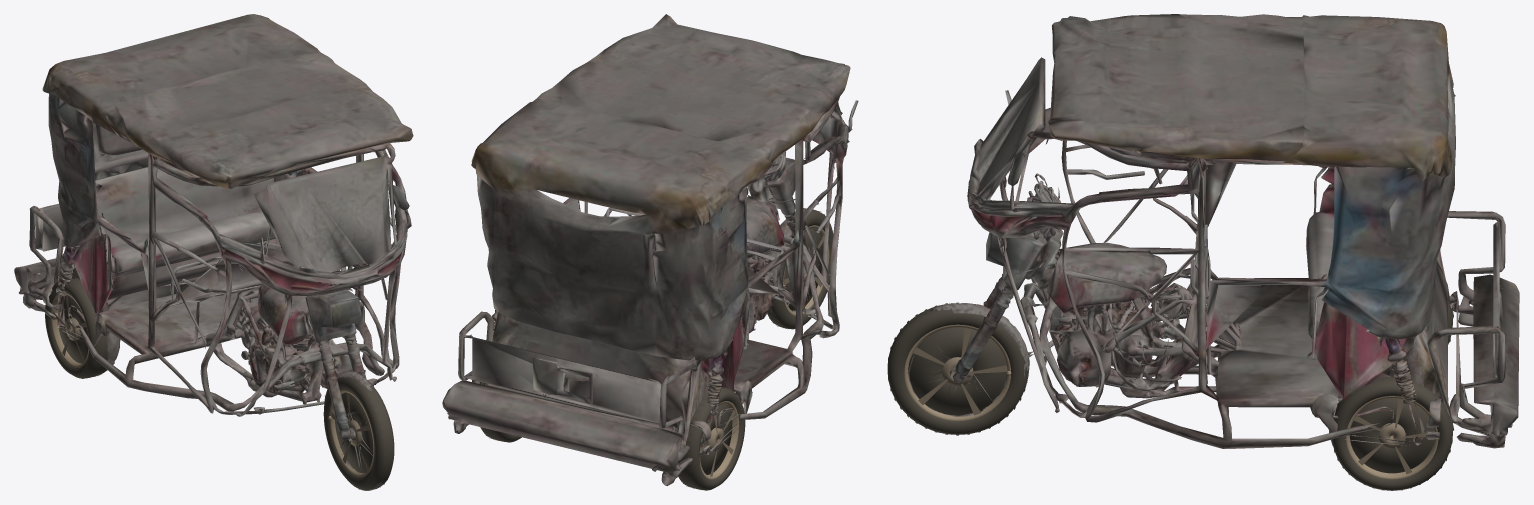
Rendered from dusty.glb.
3 views of the same model, side by side, from view 1: azimuth 30°, elevation 25°; view 2: azimuth 150°, elevation 25°; view 3: azimuth 270°, elevation 25° (orthographic). The views are drawn at different scales.
Visible parts, largest first — view 1: Body, TireFront, TireRearR, BrakeFront, BrakeRearR, RimFront, RimRearR; view 2: Body, TireRearR, TireFront, BrakeRearR, RimRearR, BrakeFront; view 3: Body, TireFront, BrakeFront, TireRearL, BrakeRearL, RimFront, RimRearL, SpokesFront.
Boxes of the visible parts, x1,y1,x2,y2 form: Body: [14, 14, 413, 490]; TireFront: [323, 377, 394, 489]; TireRearR: [45, 277, 109, 378]; BrakeFront: [335, 392, 373, 472]; BrakeRearR: [57, 295, 88, 363]; RimFront: [329, 389, 374, 477]; RimRearR: [51, 292, 88, 367]; Body: [442, 14, 858, 485]; TireRearR: [678, 387, 745, 490]; TireFront: [767, 209, 833, 328]; BrakeRearR: [700, 404, 732, 474]; RimRearR: [699, 401, 739, 479]; BrakeFront: [784, 228, 823, 311]; Body: [908, 14, 1519, 448]; TireFront: [887, 303, 1027, 434]; BrakeFront: [908, 327, 1006, 415]; TireRearL: [1332, 376, 1452, 490]; BrakeRearL: [1349, 398, 1434, 473]; RimFront: [904, 324, 1010, 421]; RimRearL: [1346, 396, 1438, 479]; SpokesFront: [913, 328, 1007, 415].
Size of the model in its own units: 1.38 by 1.71 by 2.66.
Materials: 4 (1 with a texture image).
